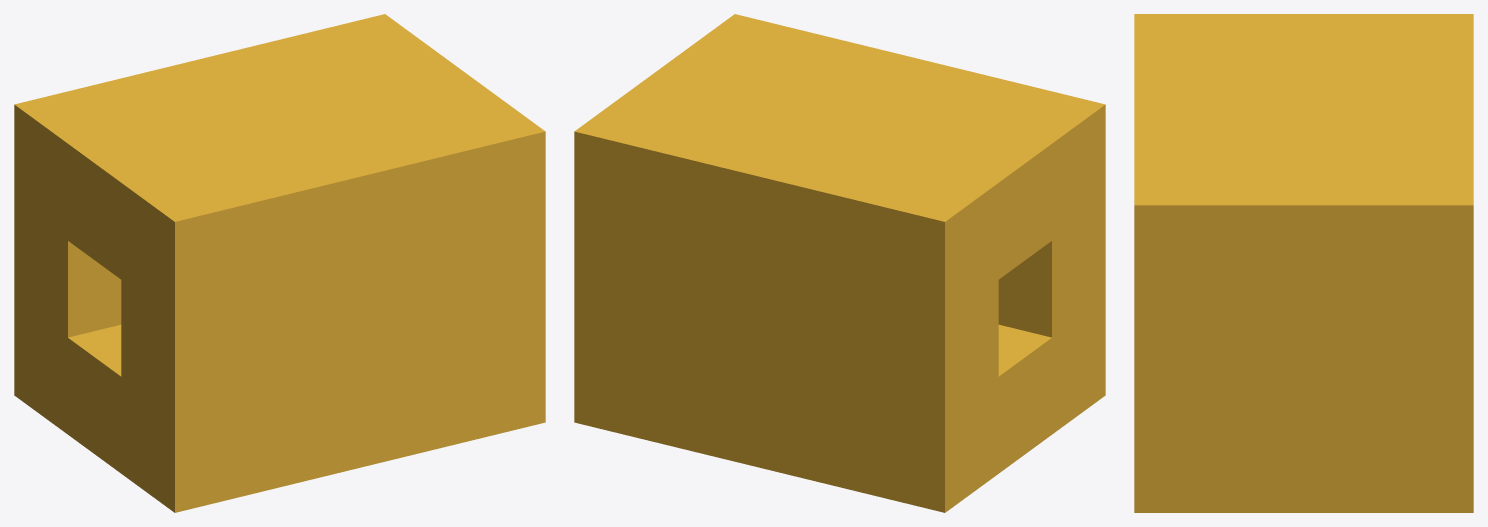
File: Case.fbx
3 views of the same model, side by side, from view 1: azimuth 30°, elevation 25°; view 2: azimuth 150°, elevation 25°; view 3: azimuth 270°, elevation 25° (orthographic). The views are drawn at different scales.
Visible parts, largest first — view 1: Matrix; view 2: Matrix; view 3: Matrix.
Boxes of the visible parts, box(x1,y1,x2,y2) form: Matrix: box(14, 14, 545, 512); Matrix: box(574, 14, 1105, 512); Matrix: box(1134, 14, 1473, 512).
Bounding box in the file's own units: 4 × 3 × 3.
Materials: 1 (1 with a texture image).
